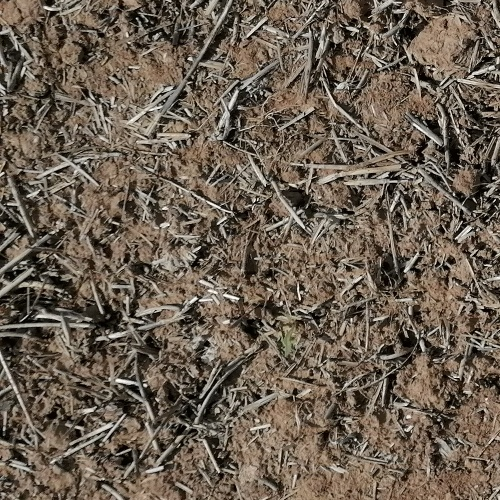beet: (278, 308, 300, 356)
